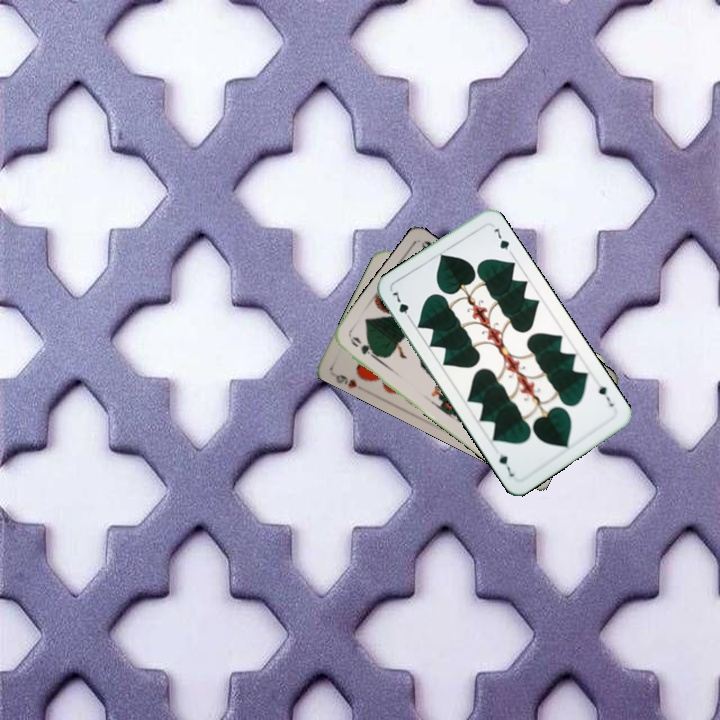G7: (388, 288, 415, 324), (594, 382, 617, 409)
GO: (346, 332, 383, 363)
H9: (332, 370, 359, 390)
